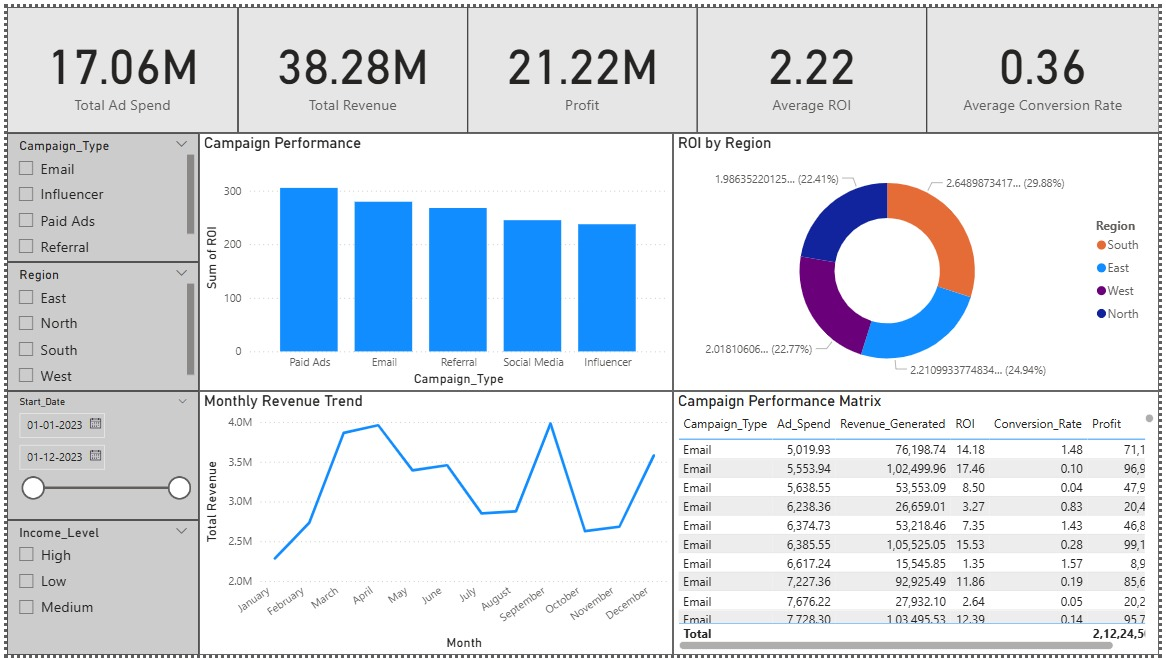

What the dashboard file says about the page in this screenshot:
{"tool":"powerbi","page":{"name":"Page 1","canvas":[1280,720],"ordinal":0},"visuals":[{"type":"card","fields":{"Values":["DAX Measures.Total Ad Spend"]},"box":[0,0,256.7,140],"z":0},{"type":"card","fields":{"Values":["DAX Measures.Total Revenue"]},"box":[256.7,0,255,140],"z":1},{"type":"card","fields":{"Values":["DAX Measures.Profit"]},"box":[511.7,0,255,140],"z":2},{"type":"card","fields":{"Values":["DAX Measures.Average ROI"]},"box":[766.7,0,255,140],"z":3},{"type":"card","fields":{"Values":["DAX Measures.Average Conversion Rate"]},"box":[1021.7,0,258.3,140],"z":4},{"type":"slicer","fields":{"Values":["Marketing_Campaign_Effectiveness.Campaign_Type"]},"box":[0,140,213.3,143.3],"z":5},{"type":"slicer","fields":{"Values":["Marketing_Campaign_Effectiveness.Start_Date"]},"box":[0,426.7,213.3,143.3],"z":6},{"type":"slicer","fields":{"Values":["Marketing_Campaign_Effectiveness.Region"]},"box":[0,283.3,213.3,143.3],"z":7},{"type":"slicer","fields":{"Values":["Marketing_Campaign_Effectiveness.Income_Level"]},"box":[0,570,213.3,150],"z":8},{"type":"clusteredColumnChart","title":"Campaign Performance","fields":{"Category":["Marketing_Campaign_Effectiveness.Campaign_Type"],"Y":["Sum(Marketing_Campaign_Effectiveness.ROI)"]},"box":[213.3,140,526.7,286.7],"z":9},{"type":"donutChart","title":"ROI by Region","fields":{"Category":["Marketing_Campaign_Effectiveness.Region"],"Y":["Avg(Marketing_Campaign_Effectiveness.ROI)"]},"box":[740,140,540,286.7],"z":10},{"type":"lineChart","title":"Monthly Revenue Trend","fields":{"Category":["Marketing_Campaign_Effectiveness.Start_Date.Variation.Date Hierarchy.Month"],"Y":["DAX Measures.Total Revenue"]},"box":[213.3,426.7,526.7,293.3],"z":11},{"type":"tableEx","title":"Campaign Performance Matrix","fields":{"Values":["Marketing_Campaign_Effectiveness.Campaign_Type","Marketing_Campaign_Effectiveness.Ad_Spend","Marketing_Campaign_Effectiveness.Revenue_Generated","Marketing_Campaign_Effectiveness.ROI","Marketing_Campaign_Effectiveness.Conversion_Rate","DAX Measures.Profit"]},"box":[740,426.7,540,293.3],"z":12}]}

Visuals, with their boxes in screenshot pixels (x1, y1, x2, y2), scaled from the page's 1280x720 canvas onto the 1166x658 screenshot:
card - DAX Measures.Total Ad Spend: {"left": 0, "top": 0, "right": 234, "bottom": 128}
card - DAX Measures.Total Revenue: {"left": 234, "top": 0, "right": 466, "bottom": 128}
card - DAX Measures.Profit: {"left": 466, "top": 0, "right": 698, "bottom": 128}
card - DAX Measures.Average ROI: {"left": 698, "top": 0, "right": 931, "bottom": 128}
card - DAX Measures.Average Conversion Rate: {"left": 931, "top": 0, "right": 1165, "bottom": 128}
slicer - Marketing_Campaign_Effectiveness.Campaign_Type: {"left": 0, "top": 128, "right": 194, "bottom": 259}
slicer - Marketing_Campaign_Effectiveness.Start_Date: {"left": 0, "top": 390, "right": 194, "bottom": 521}
slicer - Marketing_Campaign_Effectiveness.Region: {"left": 0, "top": 259, "right": 194, "bottom": 390}
slicer - Marketing_Campaign_Effectiveness.Income_Level: {"left": 0, "top": 521, "right": 194, "bottom": 657}
"Campaign Performance" clusteredColumnChart: {"left": 194, "top": 128, "right": 674, "bottom": 390}
"ROI by Region" donutChart: {"left": 674, "top": 128, "right": 1165, "bottom": 390}
"Monthly Revenue Trend" lineChart: {"left": 194, "top": 390, "right": 674, "bottom": 657}
"Campaign Performance Matrix" tableEx: {"left": 674, "top": 390, "right": 1165, "bottom": 657}
